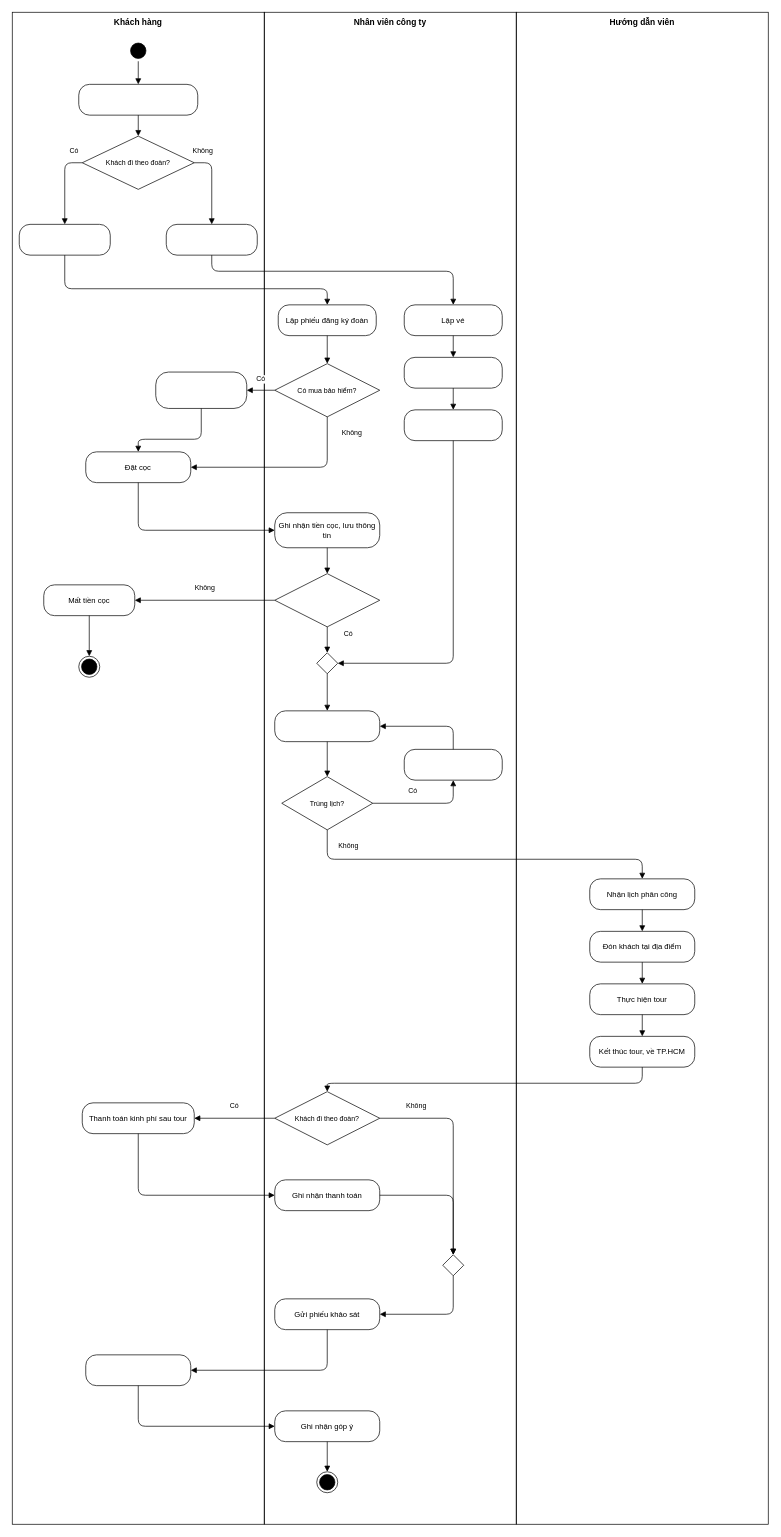
Some shapes in this 781 by 1537 pixel diagram are drawn without their labels. The centre of each missing label's shape, as x and y in pixels:
Chọn chuyến tại điểm bán vé: the point at 211,239
Chọn hướng dẫn viên khác: the point at 453,764
Cung cấp danh sách người đi cùng: the point at 201,389
Ghi nhận thanh toán, in vé: the point at 453,425
Phân công hướng dẫn viên: the point at 327,726
Thanh toán tiền vé: the point at 453,372
Xem thông tin tour, chọn tour: the point at 138,99
Điền phiếu khảo sát: the point at 138,1370
Điền phiếu đăng ký đoàn: the point at 64,239
Đoàn có đi tour?: the point at 327,600
